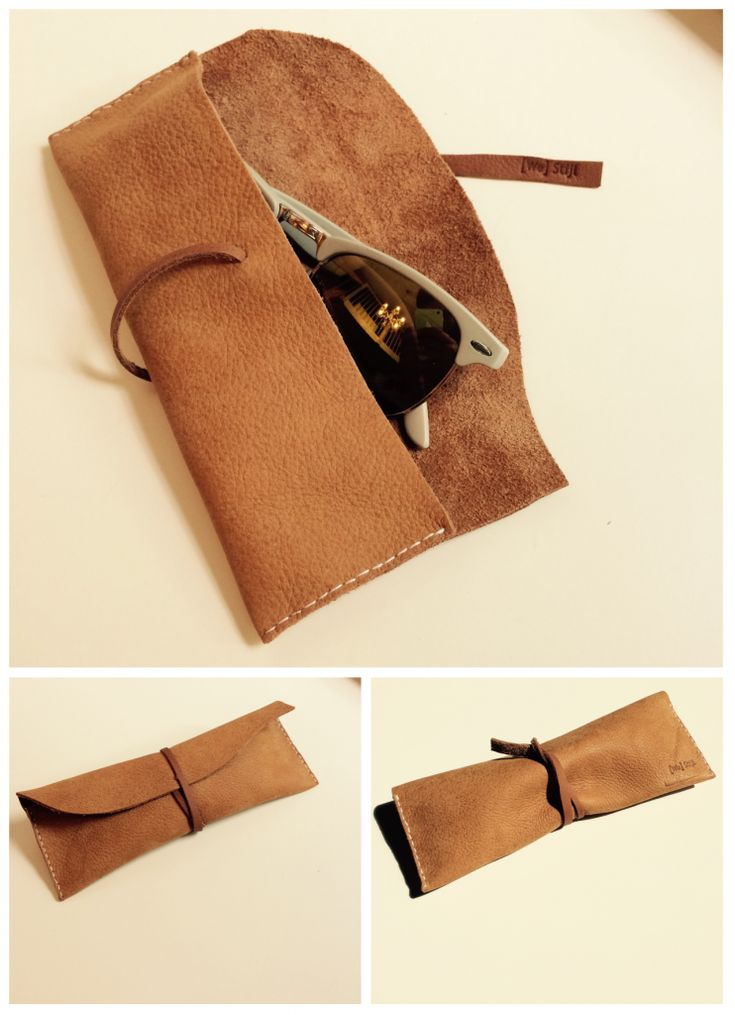cuero: (20, 26, 718, 900)
